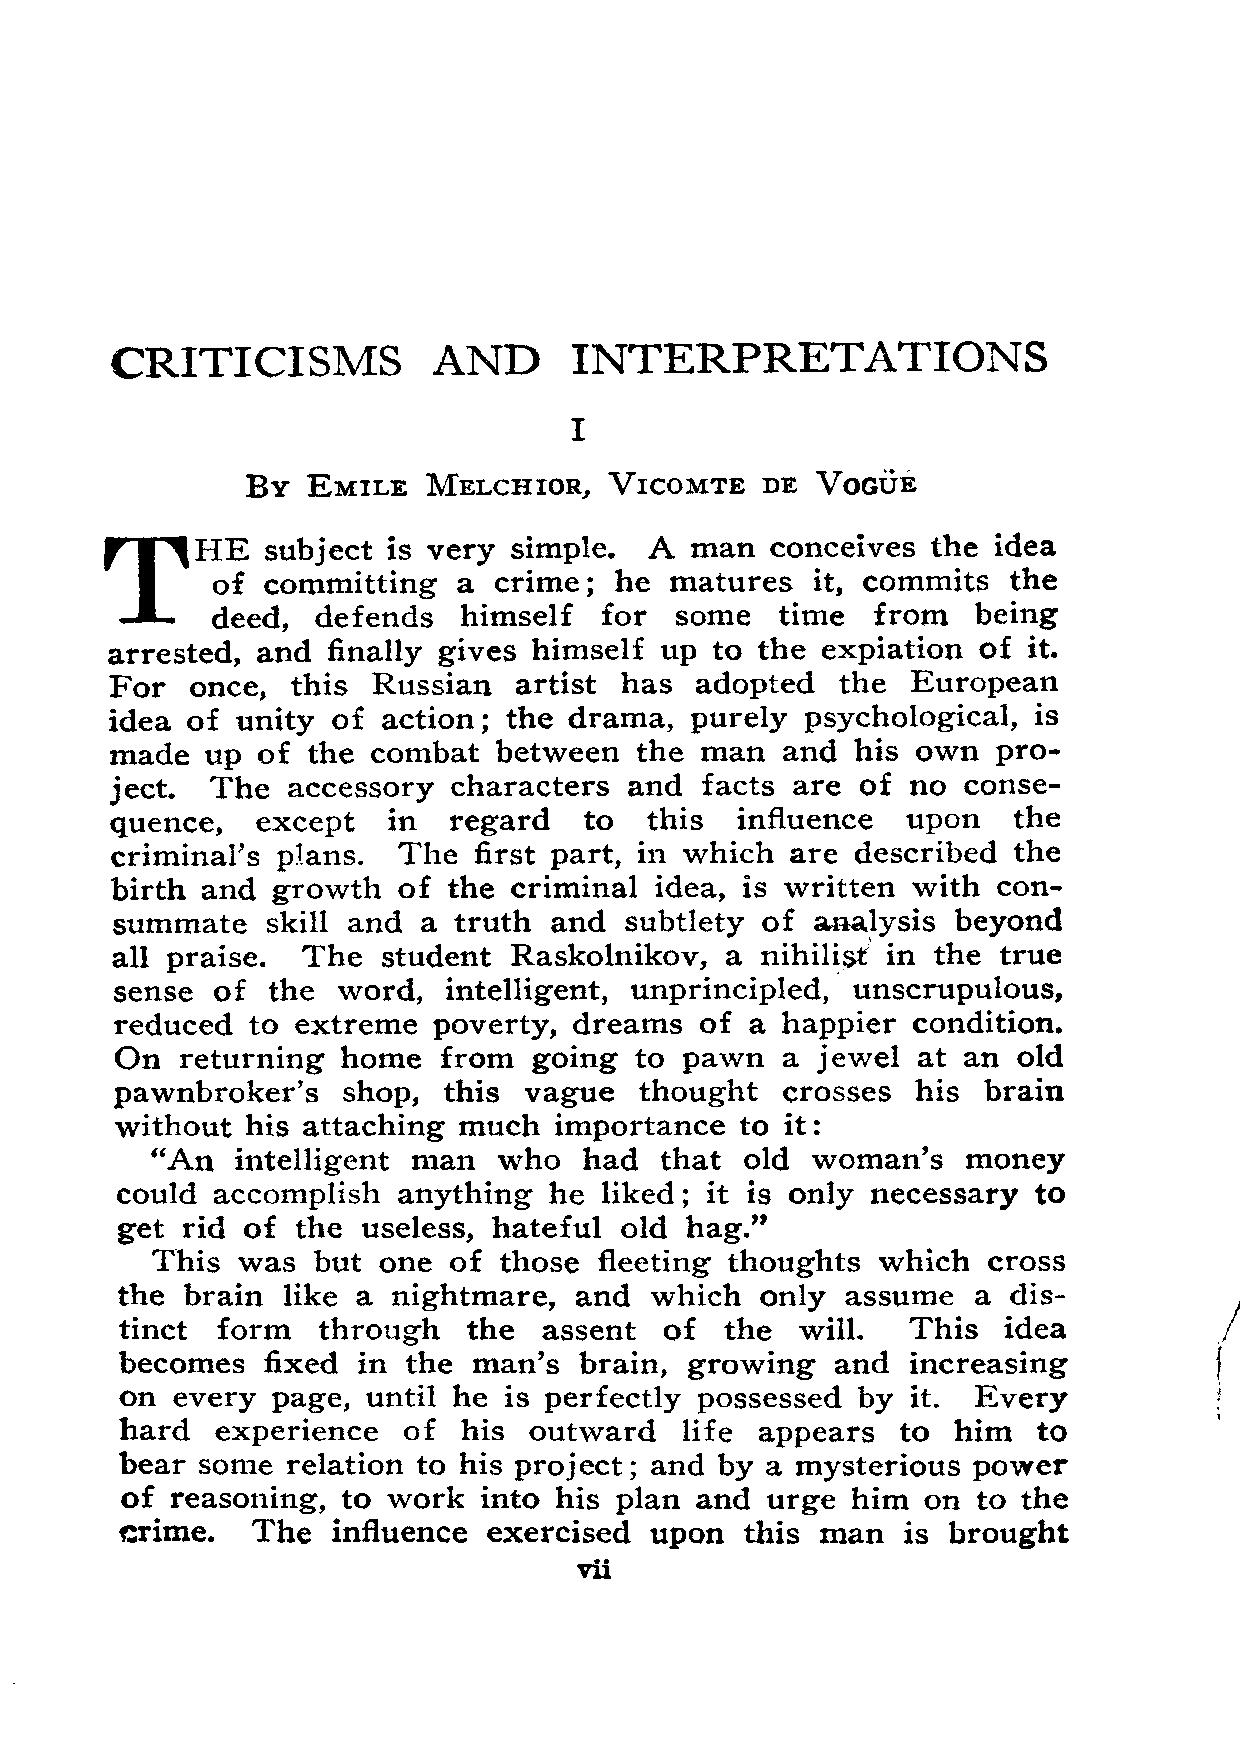chapter: (107, 340, 1049, 505)
content: (101, 531, 1074, 1550)
content_pagenumber: (570, 1555, 617, 1584)
